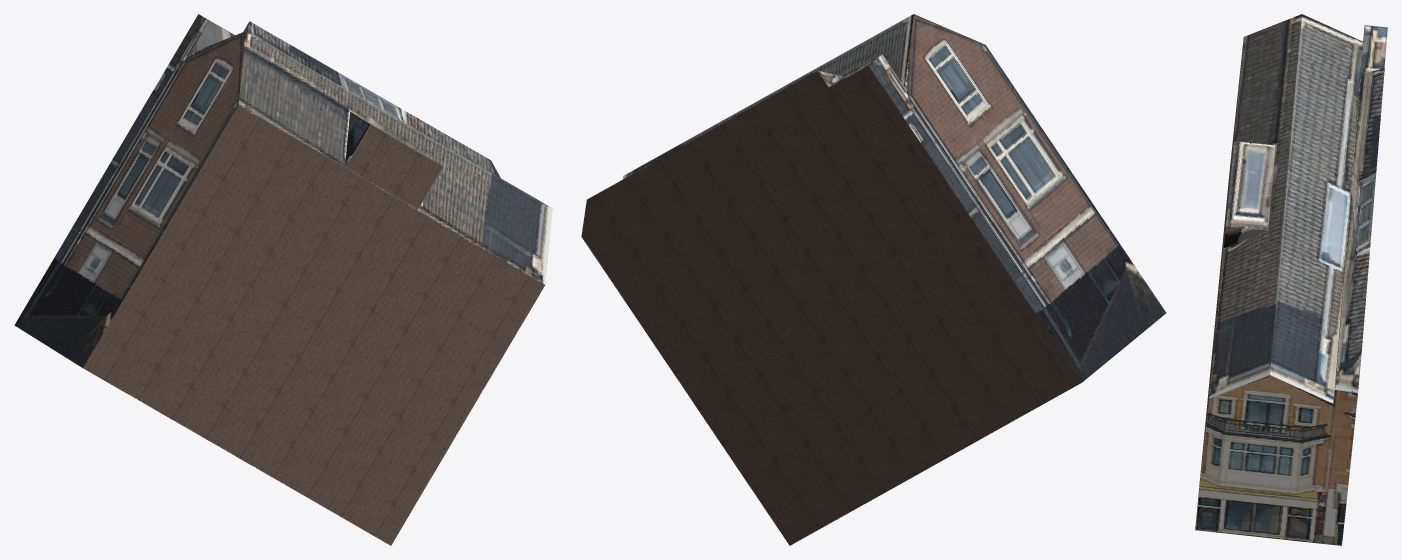
3 views of the same model, side by side, from view 1: azimuth 30°, elevation 25°; view 2: azimuth 150°, elevation 25°; view 3: azimuth 270°, elevation 25° (orthographic). The views are drawn at different scales.
Visible parts, largest first — view 1: BAG_0599100000671720 (×6); view 2: BAG_0599100000671720 (×2); view 3: BAG_0599100000671720 (×6).
Part boxes in pixels (<box>): BAG_0599100000671720 (×6): <box>14,14,552,545</box>; BAG_0599100000671720 (×2): <box>581,14,1166,545</box>; BAG_0599100000671720 (×6): <box>1195,14,1387,545</box>.
Bounding box in the file's own units: 17.3 × 17.15 × 6.15.
Materials: 1 (1 with a texture image).
